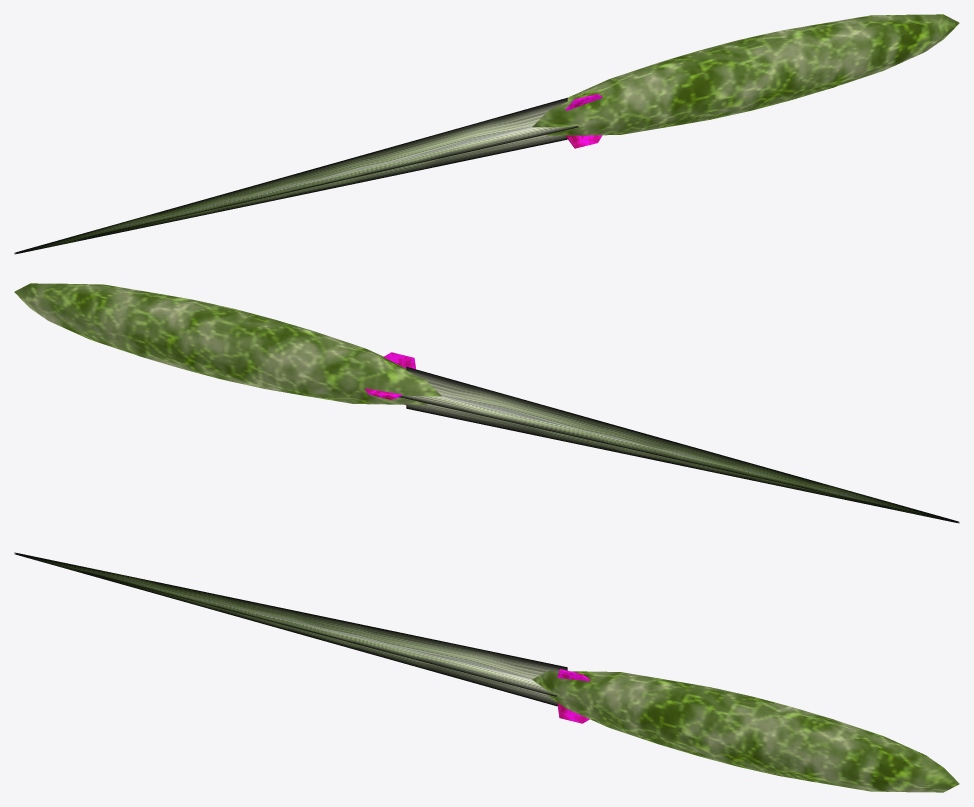
Rendered from needle.glb.
The picture shows the model from 3 angles, top to bottom: view 1: azimuth 30°, elevation 25°; view 2: azimuth 150°, elevation 25°; view 3: azimuth 330°, elevation 25°; orthographic projection.
Visible parts, largest first — view 1: needle_shell, needle_trail, needle_fletch; view 2: needle_shell, needle_trail, needle_fletch; view 3: needle_shell, needle_trail, needle_fletch.
Boxes of the visible parts, box(x1,y1,x2,y2) form: needle_shell: box(532, 14, 959, 135); needle_trail: box(14, 97, 578, 254); needle_fletch: box(565, 94, 602, 148); needle_shell: box(14, 283, 441, 404); needle_trail: box(398, 366, 959, 523); needle_fletch: box(365, 352, 415, 404); needle_shell: box(532, 671, 959, 792); needle_trail: box(14, 552, 567, 706); needle_fletch: box(557, 669, 590, 723).
Size of the model in its own units: 10.6 by 0.7 by 0.7.
Materials: 4 (4 with a texture image).
